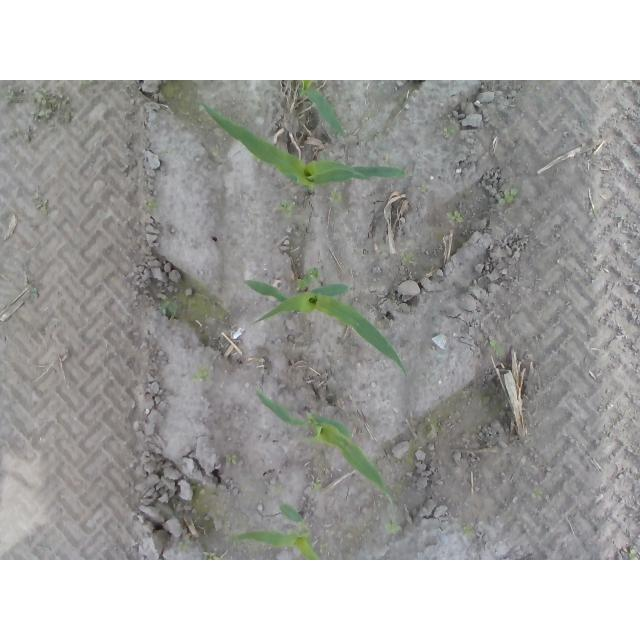Maize: (198, 100, 408, 197), (253, 385, 397, 512), (243, 280, 409, 377), (235, 504, 321, 561), (298, 81, 346, 137)
Weeds: (34, 93, 67, 123), (496, 187, 520, 208), (279, 199, 296, 218), (531, 480, 545, 501), (191, 369, 210, 384), (160, 297, 177, 312), (447, 210, 465, 224), (190, 482, 207, 496), (179, 537, 194, 552), (329, 187, 343, 203), (384, 523, 402, 534), (490, 339, 503, 353), (203, 552, 222, 561), (36, 199, 49, 212), (145, 198, 159, 208), (1, 96, 16, 105), (418, 183, 431, 193), (226, 455, 238, 465), (628, 549, 638, 560), (402, 255, 412, 265), (463, 528, 474, 537), (447, 128, 457, 137), (311, 480, 321, 488), (31, 288, 38, 297)
